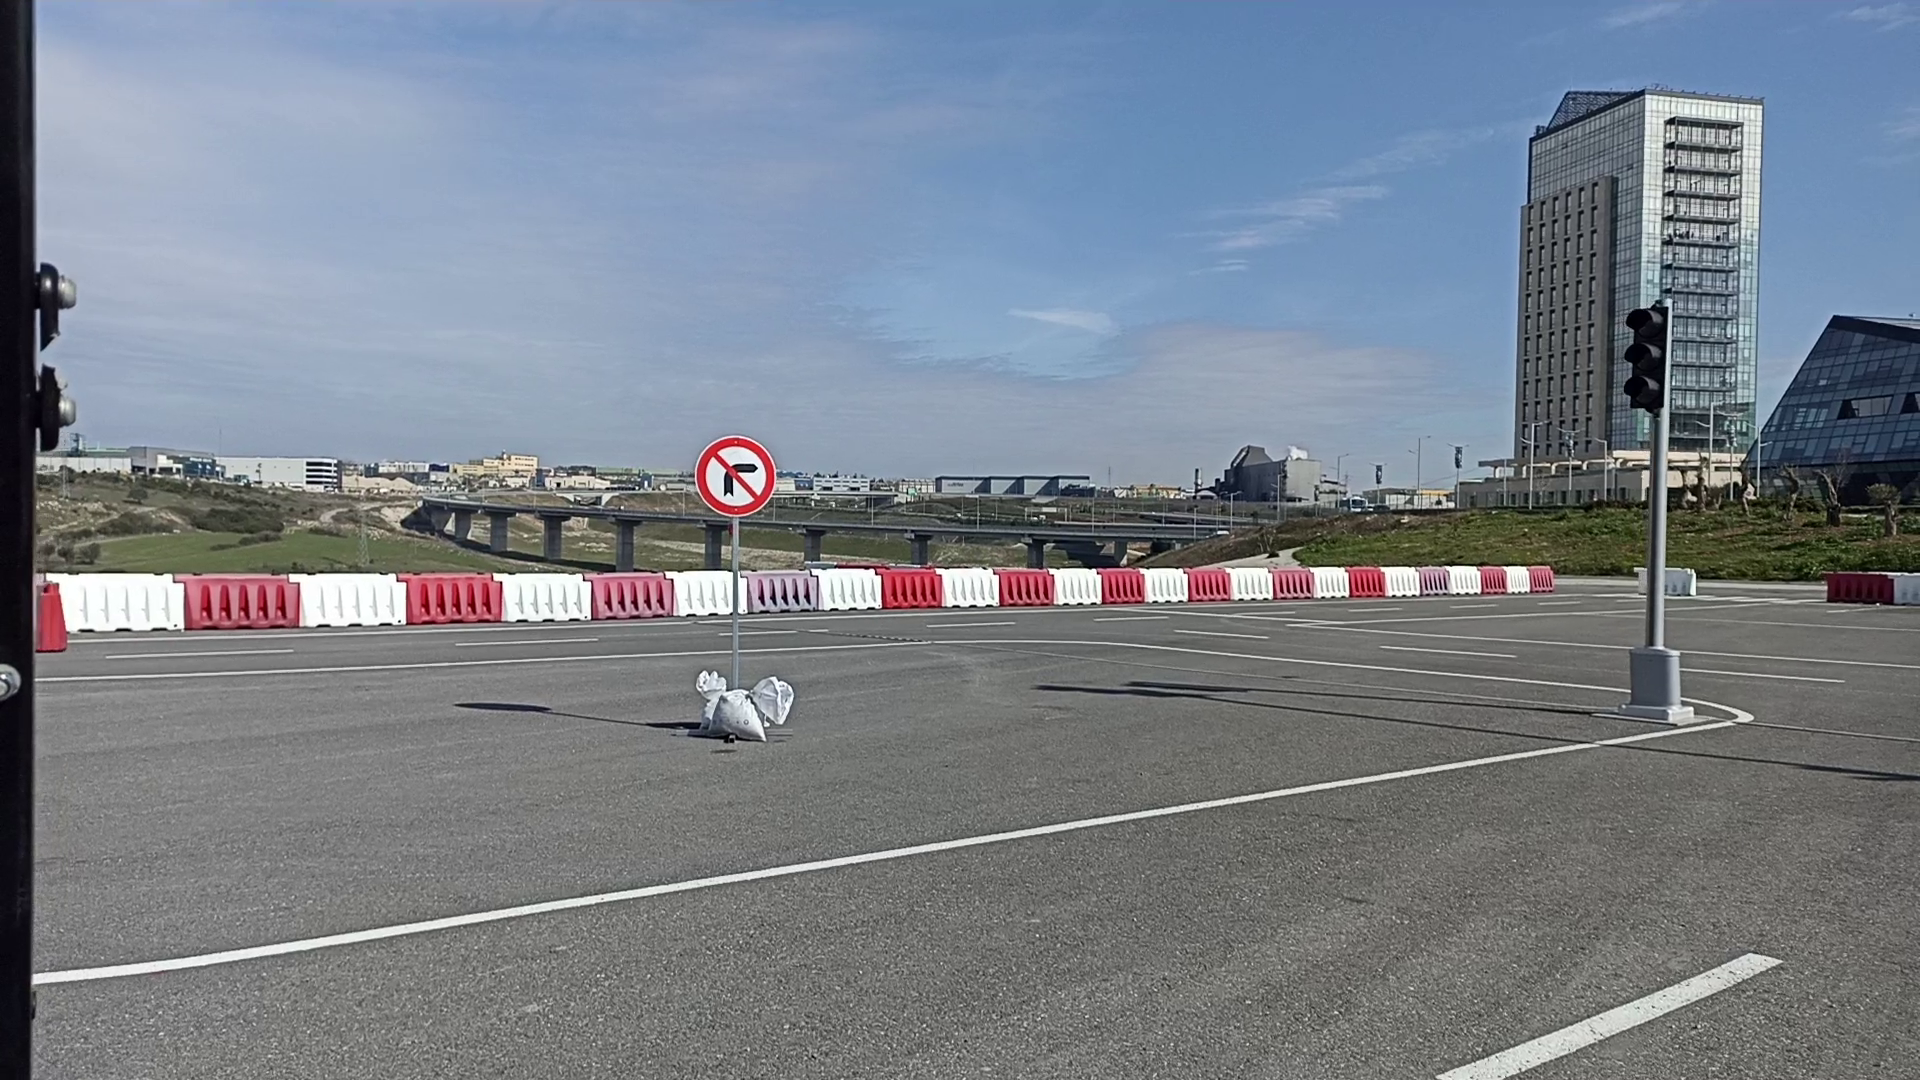noleftturn: (694, 433, 781, 518)
trafficlight: (1619, 301, 1671, 413)
